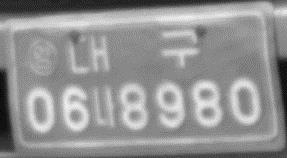0: (228, 75, 264, 128), (25, 87, 56, 135)
6: (61, 85, 90, 133)
8: (190, 78, 225, 128), (119, 82, 150, 132)
9: (154, 79, 187, 128)
나: (91, 82, 119, 130)
대구_D: (67, 27, 202, 77)
영: (26, 37, 62, 77)
